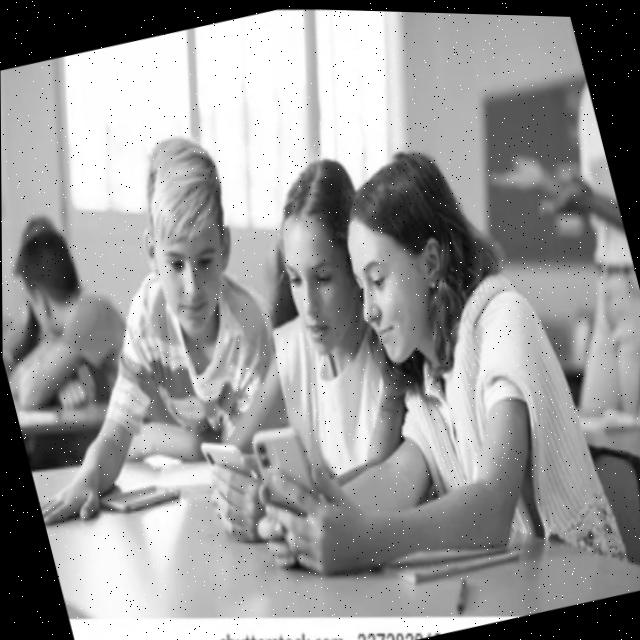phone: (231, 408, 338, 530), (91, 462, 185, 528), (190, 425, 263, 491)
